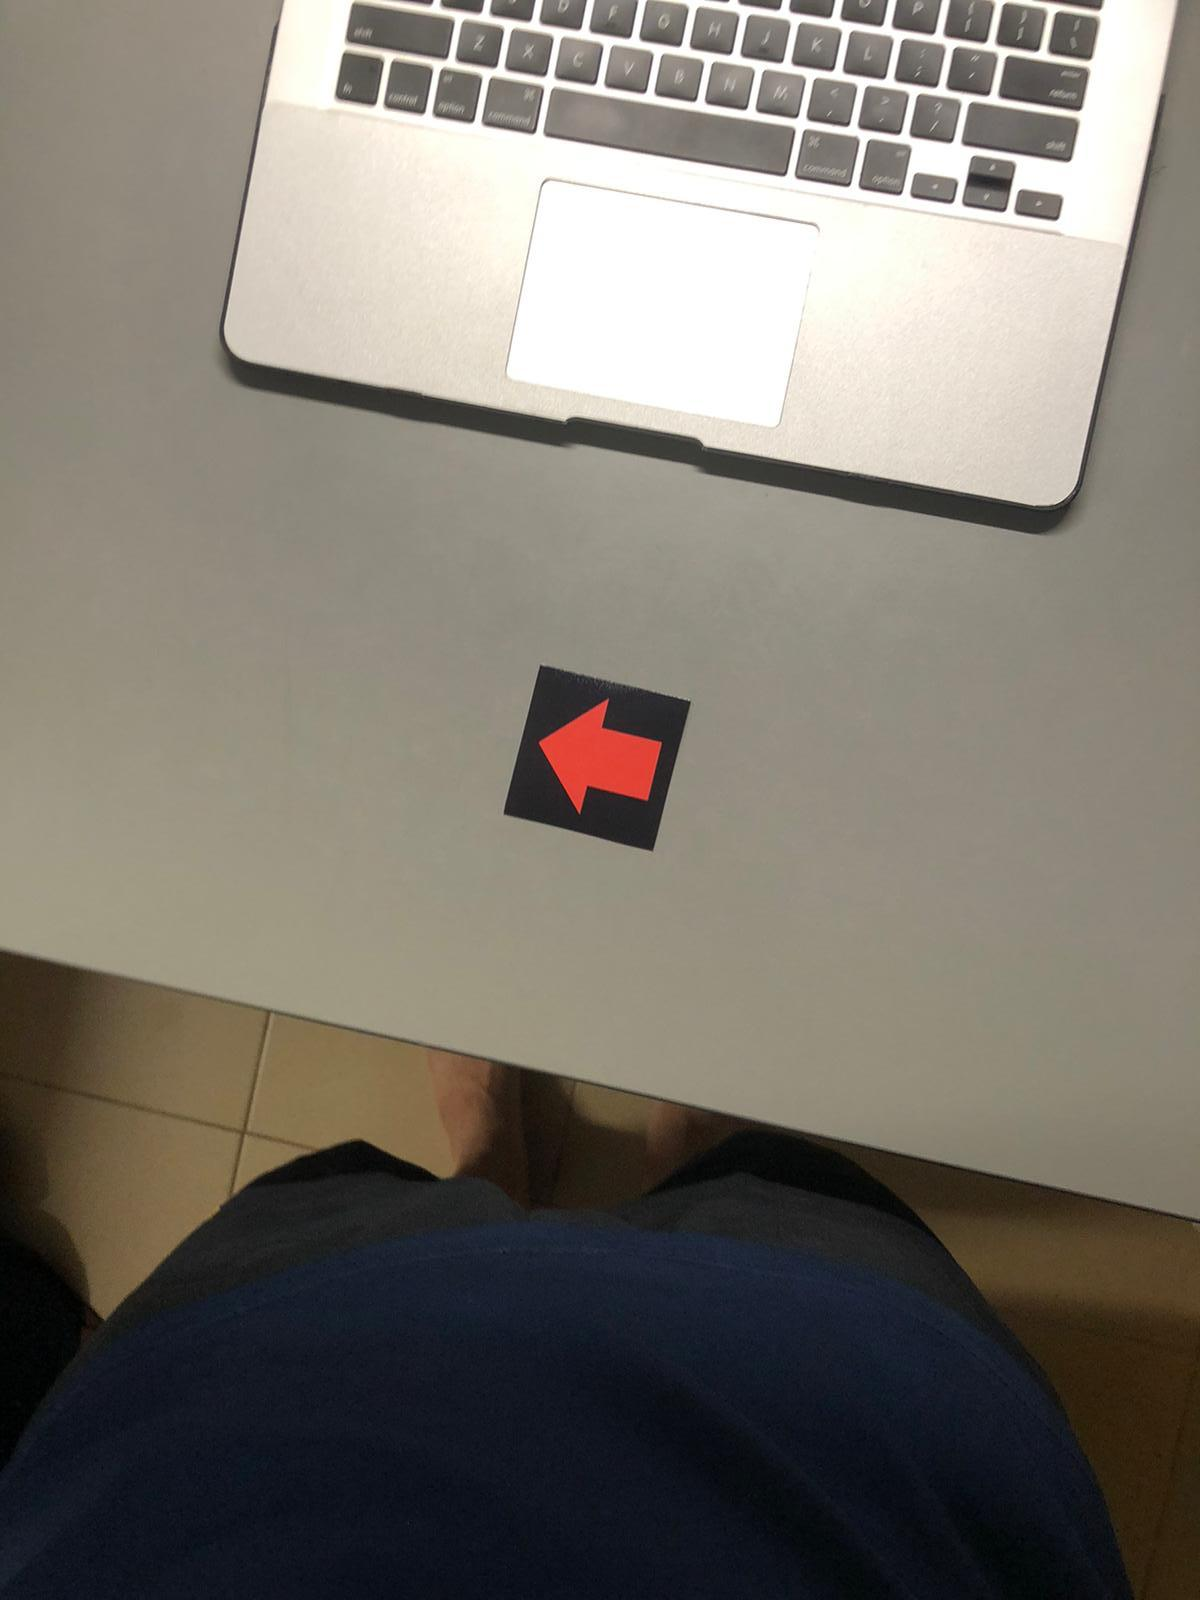Left Arrow: (522, 666, 679, 847)
